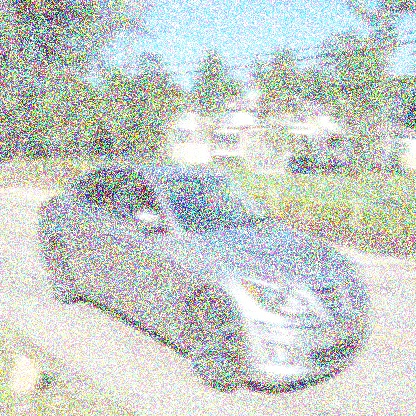Vehicle: (36, 164, 369, 393)
